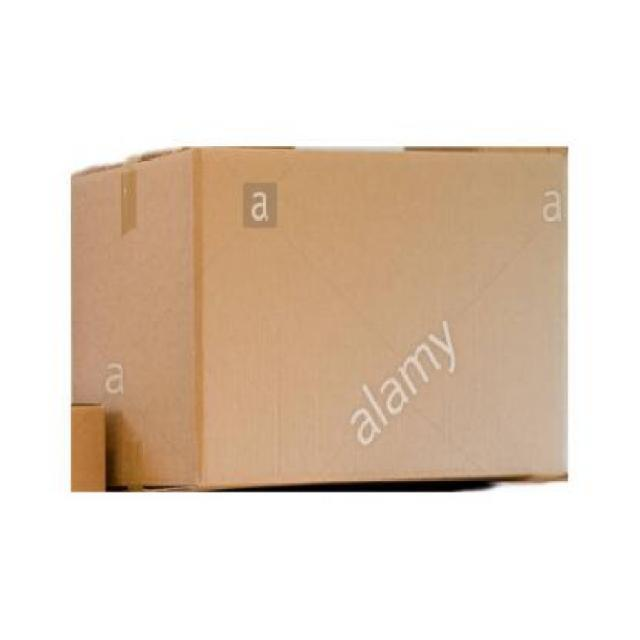box: (66, 136, 569, 485)
